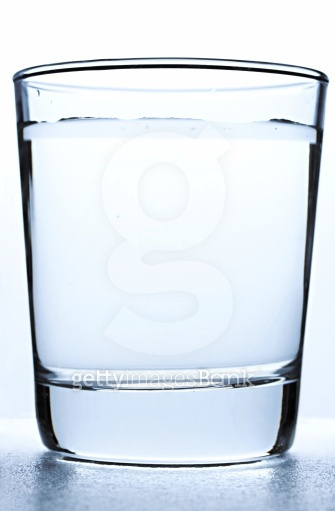glass of water: (8, 46, 331, 472)
